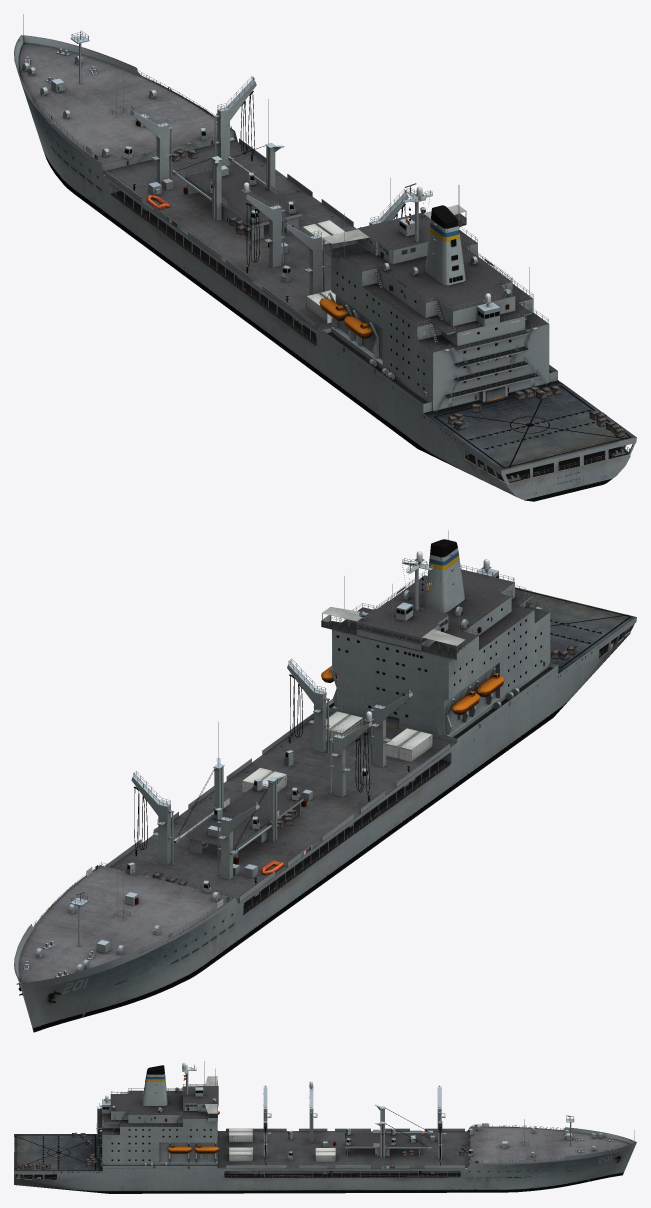
File: ship.glb
3 views of the same model, one above another, from view 1: azimuth 30°, elevation 25°; view 2: azimuth 150°, elevation 25°; view 3: azimuth 270°, elevation 25° (orthographic). The views are drawn at different scales.
Visible parts, largest first — view 1: OceanSupplyShip; view 2: OceanSupplyShip; view 3: OceanSupplyShip.
Part boxes in pixels (x1=…): OceanSupplyShip: x1=14, y1=14, x2=636, y2=501; OceanSupplyShip: x1=14, y1=530, x2=636, y2=1032; OceanSupplyShip: x1=14, y1=1061, x2=636, y2=1193.
Bounding box in the file's own units: 0.3142 × 0.4115 × 2.06.
1 material, 1 textured.
